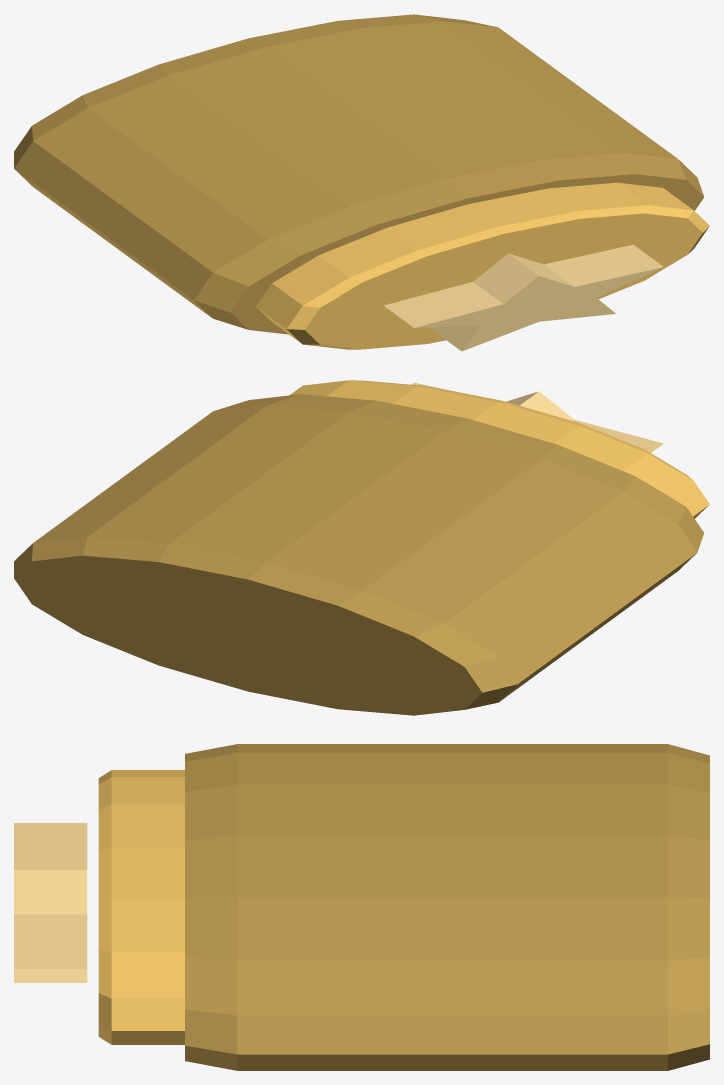
The model's file is coin_banh.glb.
3 views of the same model, one above another, from view 1: azimuth 30°, elevation 25°; view 2: azimuth 150°, elevation 25°; view 3: azimuth 270°, elevation 25° (orthographic). The views are drawn at different scales.
Visible parts, largest first — view 1: model; view 2: model; view 3: model.
Boxes of the visible parts, bbox=[...] form: model: bbox=[14, 14, 709, 351]; model: bbox=[14, 380, 709, 715]; model: bbox=[14, 744, 709, 1070].
Size of the model in its own units: 0.35 by 0.08 by 0.35.
